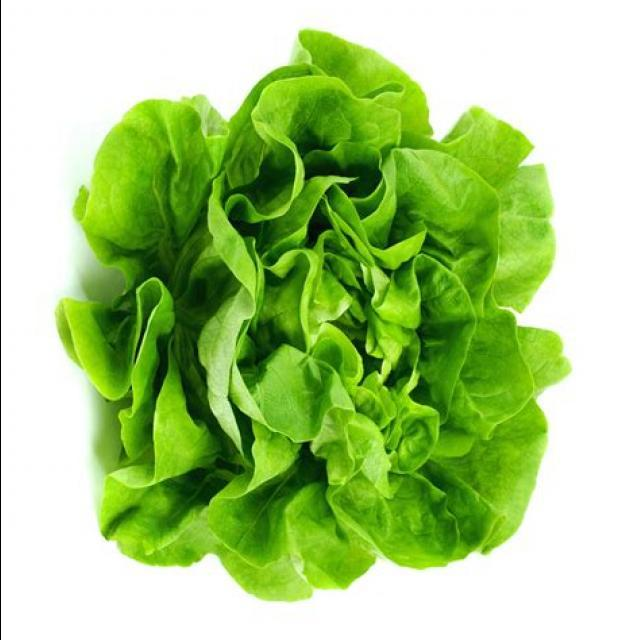Lettuce: (60, 24, 567, 596)
